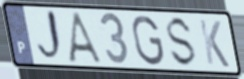3: (99, 10, 131, 69)
A: (67, 10, 107, 67)
G: (130, 14, 166, 68)
J: (35, 8, 66, 65)
K: (197, 17, 231, 69)
S: (165, 15, 199, 70)
